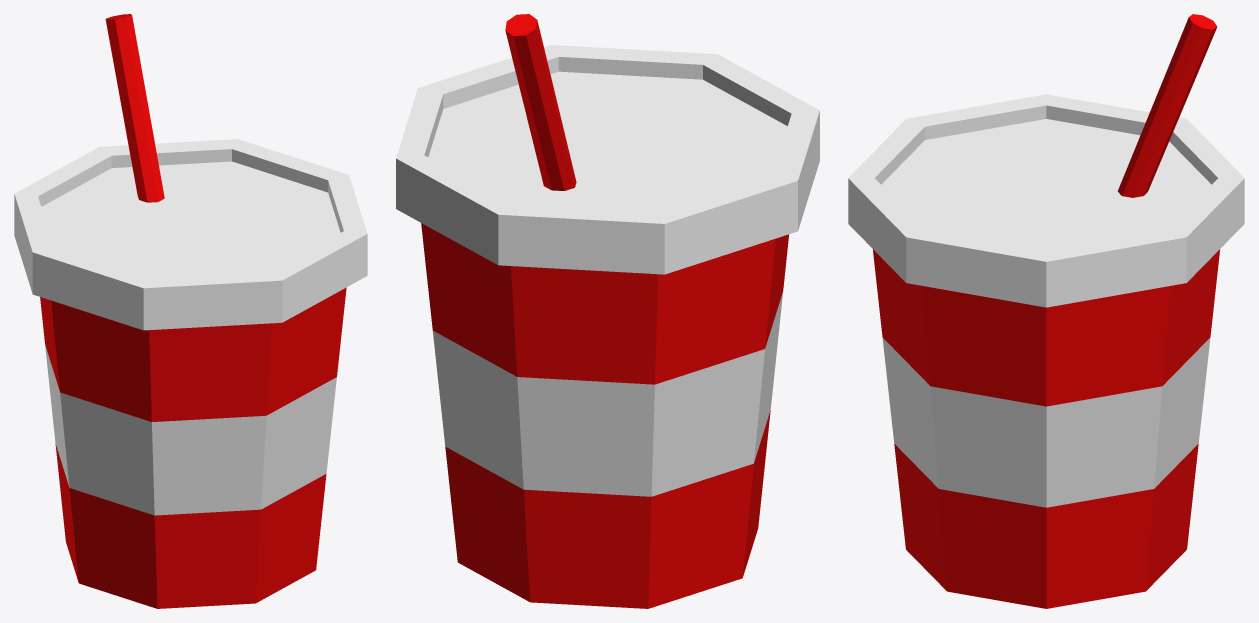
File: drinkCup.fbx
The picture shows the model from 3 angles, left to right: view 1: azimuth 30°, elevation 25°; view 2: azimuth 150°, elevation 25°; view 3: azimuth 270°, elevation 25°; orthographic projection. The views are drawn at different scales.
Visible parts, largest first — view 1: DrinkCup; view 2: DrinkCup; view 3: DrinkCup.
Part boxes in pixels (left/top/right/bottom): DrinkCup: left=14, top=14, right=367, bottom=608; DrinkCup: left=396, top=14, right=819, bottom=608; DrinkCup: left=848, top=14, right=1244, bottom=608.
Size of the model in its own units: 1.13 by 1.67 by 1.13.
